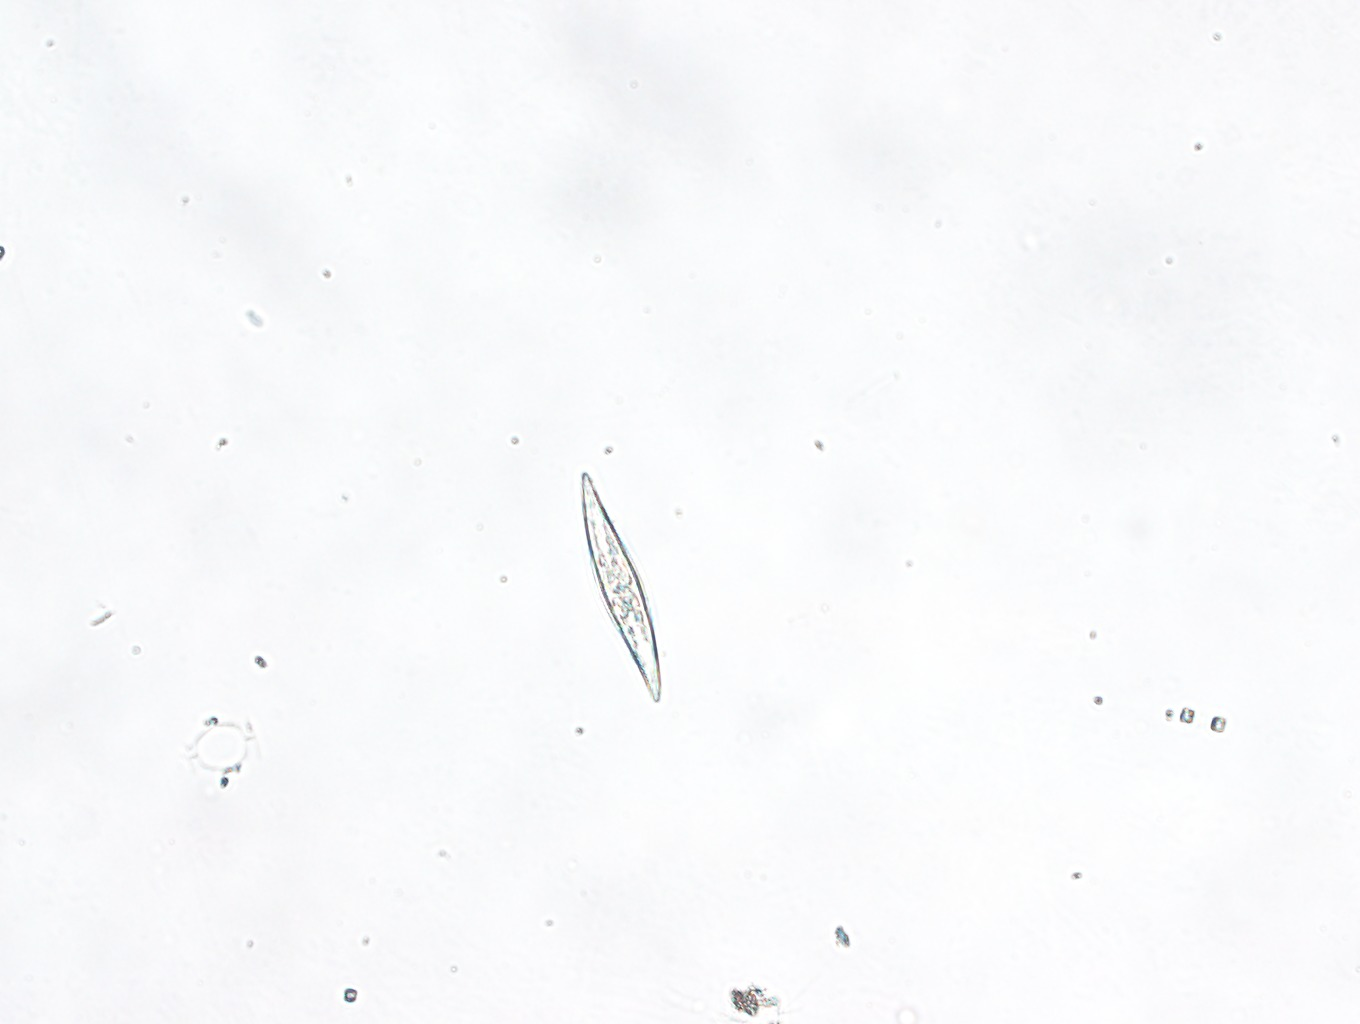pleurosigma pelagicum: (579, 474, 664, 703)
